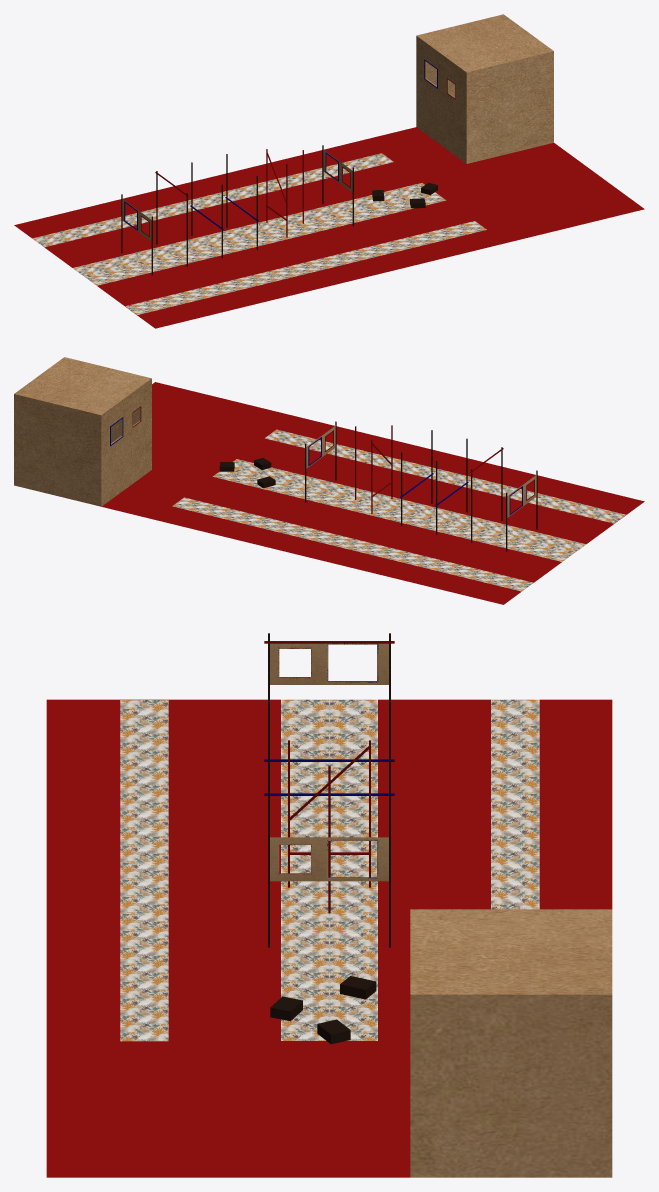
File: all.obj
3 renders of one model, top to bottom at view 1: azimuth 30°, elevation 25°; view 2: azimuth 150°, elevation 25°; view 3: azimuth 270°, elevation 25°, orthographic. The views are drawn at different scales.
Visible parts, largest first — view 1: carpete, caixa, wallpaper_right, wallpaper_center_right, wallpaper_center_left, wallpaper_left, janelas, janelas.001, canos; view 2: carpete, caixa, wallpaper_left, wallpaper_center_right, wallpaper_center_left, wallpaper_right, janelas, janelas.001, canos; view 3: carpete, caixa, wallpaper_right, wallpaper_center_left, wallpaper_center_right, wallpaper_left, janelas.001, janelas, canos.
Part boxes in pixels (x1,y1,x2,y2): carpete: (14, 127, 644, 328); caixa: (416, 14, 553, 163); wallpaper_right: (125, 221, 486, 314); wallpaper_center_right: (85, 192, 445, 285); wallpaper_center_left: (73, 183, 424, 276); wallpaper_left: (32, 153, 393, 247); janelas: (121, 194, 152, 275); janelas.001: (322, 145, 353, 226); canos: (266, 149, 303, 237); carpete: (101, 382, 644, 604); caixa: (14, 357, 151, 506); wallpaper_left: (172, 497, 533, 591); wallpaper_center_right: (233, 459, 585, 552); wallpaper_center_left: (213, 470, 573, 561); wallpaper_right: (265, 429, 625, 523); janelas: (506, 470, 537, 551); janelas.001: (305, 421, 336, 502); canos: (355, 425, 392, 513); carpete: (46, 699, 612, 1177); caixa: (410, 909, 612, 1177); wallpaper_right: (120, 700, 168, 1041); wallpaper_center_left: (329, 699, 377, 1040); wallpaper_center_right: (281, 699, 329, 1040); wallpaper_left: (491, 699, 539, 909); janelas.001: (268, 829, 390, 947); janelas: (268, 633, 390, 684); canos: (288, 740, 370, 913).
Size of the model in its own units: 14 by 2.51 by 7.
6 materials, 2 textured.
